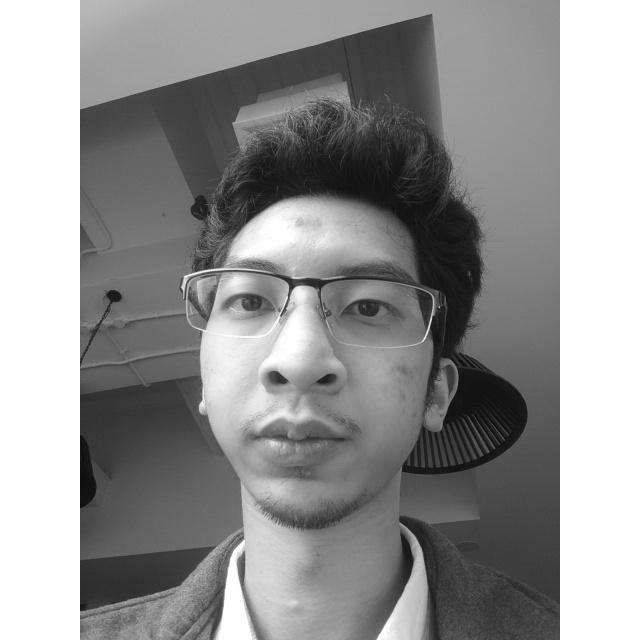real: (198, 227, 437, 523)
